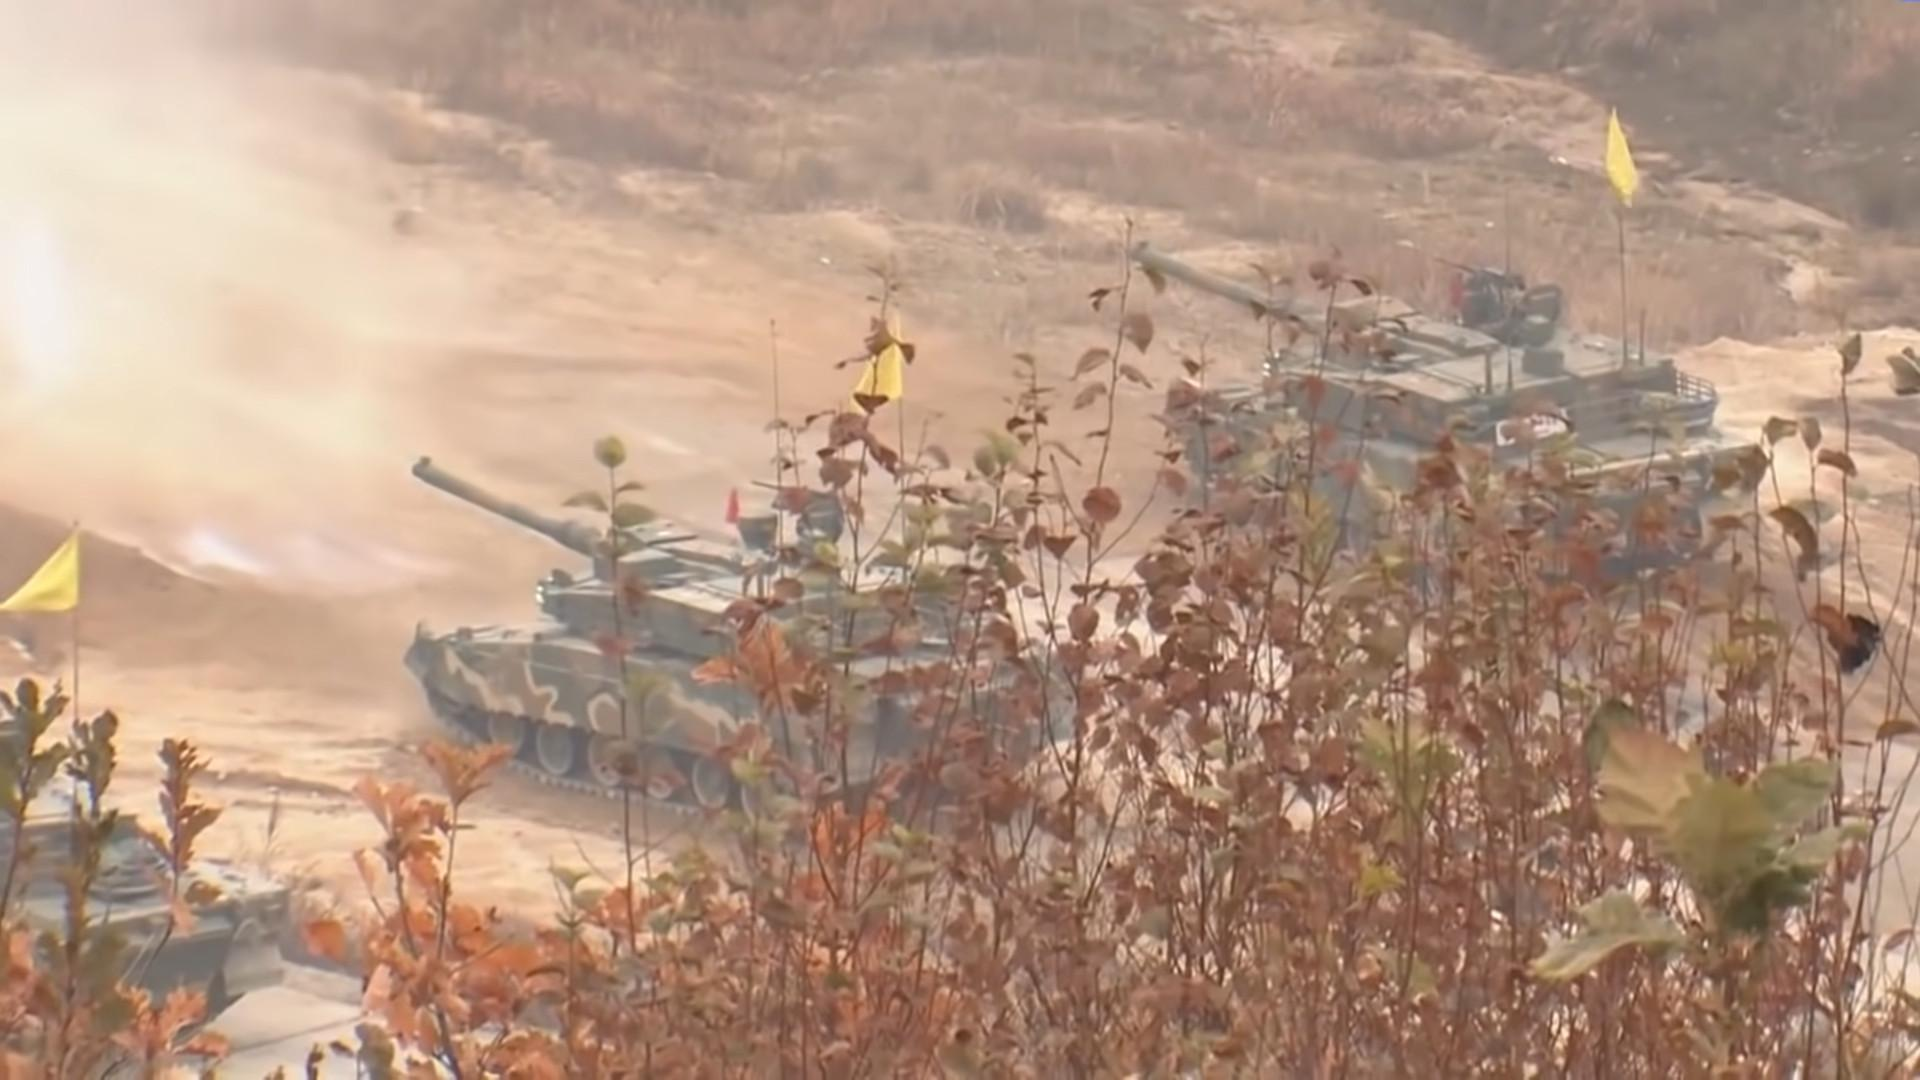tank: (404, 463, 1085, 831), (1130, 248, 1767, 588), (1, 771, 290, 1047)
